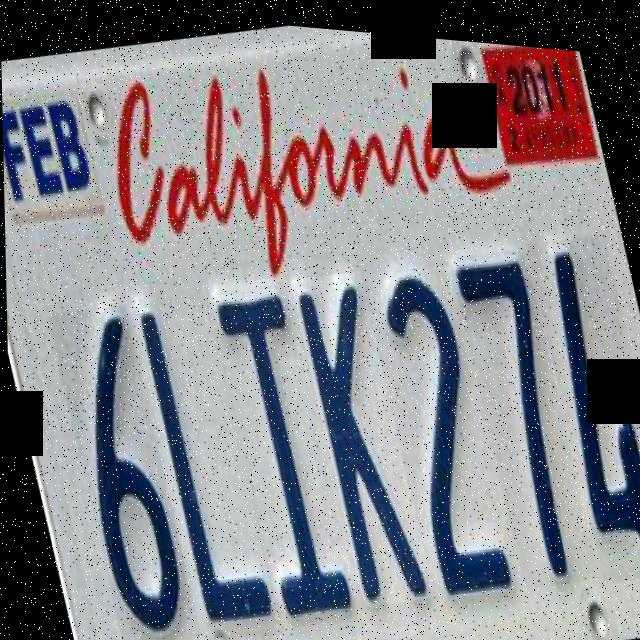4: (524, 217, 640, 576)
6: (45, 296, 199, 640)
7: (448, 234, 598, 585)
I: (205, 266, 363, 633)
K: (288, 259, 432, 605)
L: (128, 291, 277, 640)
